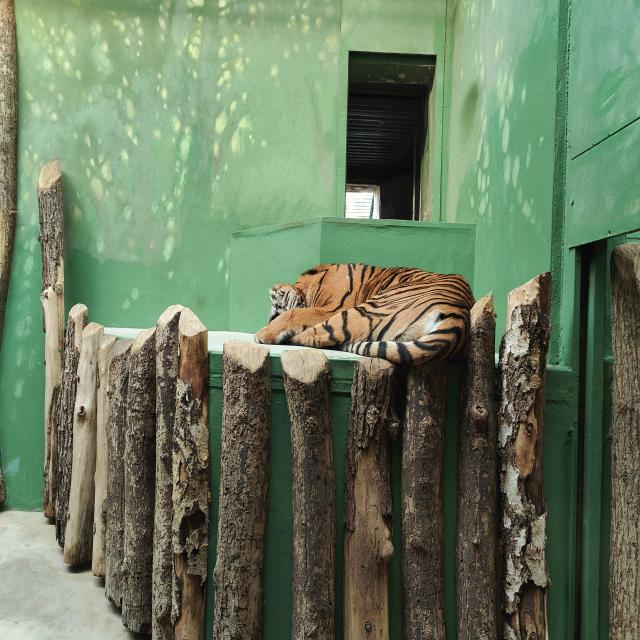tiger: (254, 262, 476, 367)
